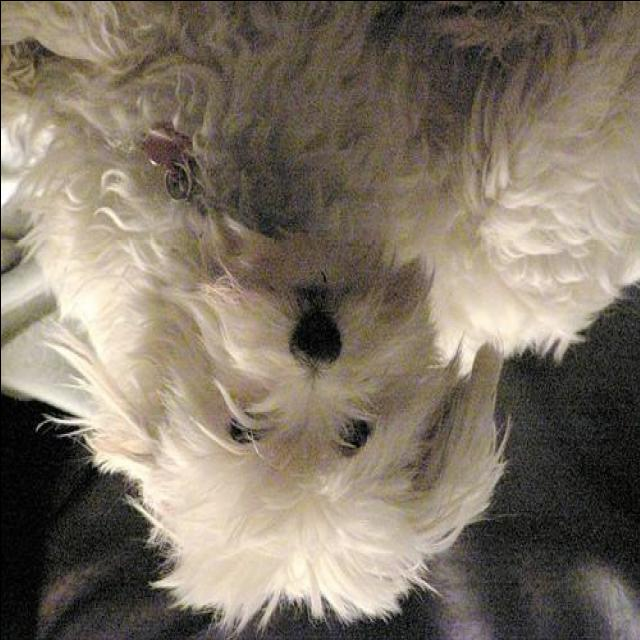maltese_dog: (18, 4, 638, 628)
